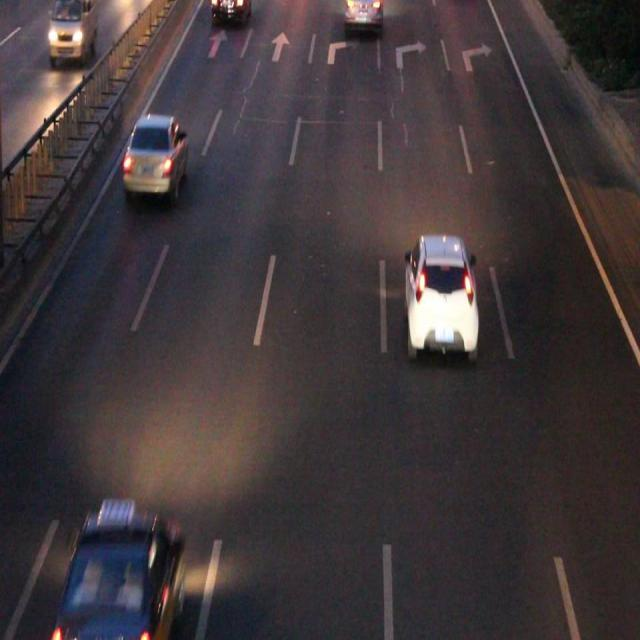car: (64, 511, 181, 640), (404, 236, 475, 352), (125, 116, 186, 193), (345, 1, 380, 26), (212, 1, 248, 23)
